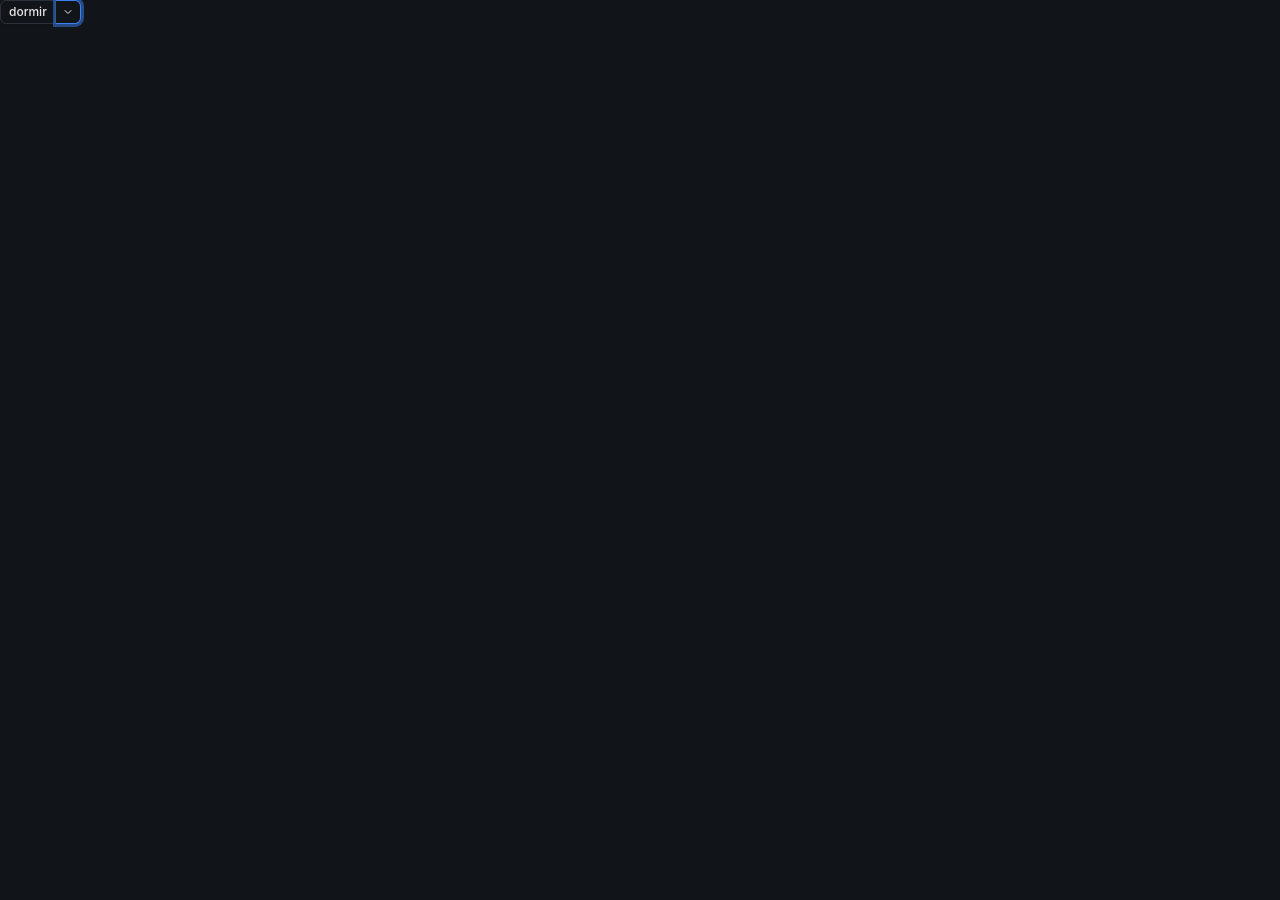
Test: an agent the shim missed in one of the terminals adds the lost-conversation line to the dialog (#696)
Press Enter
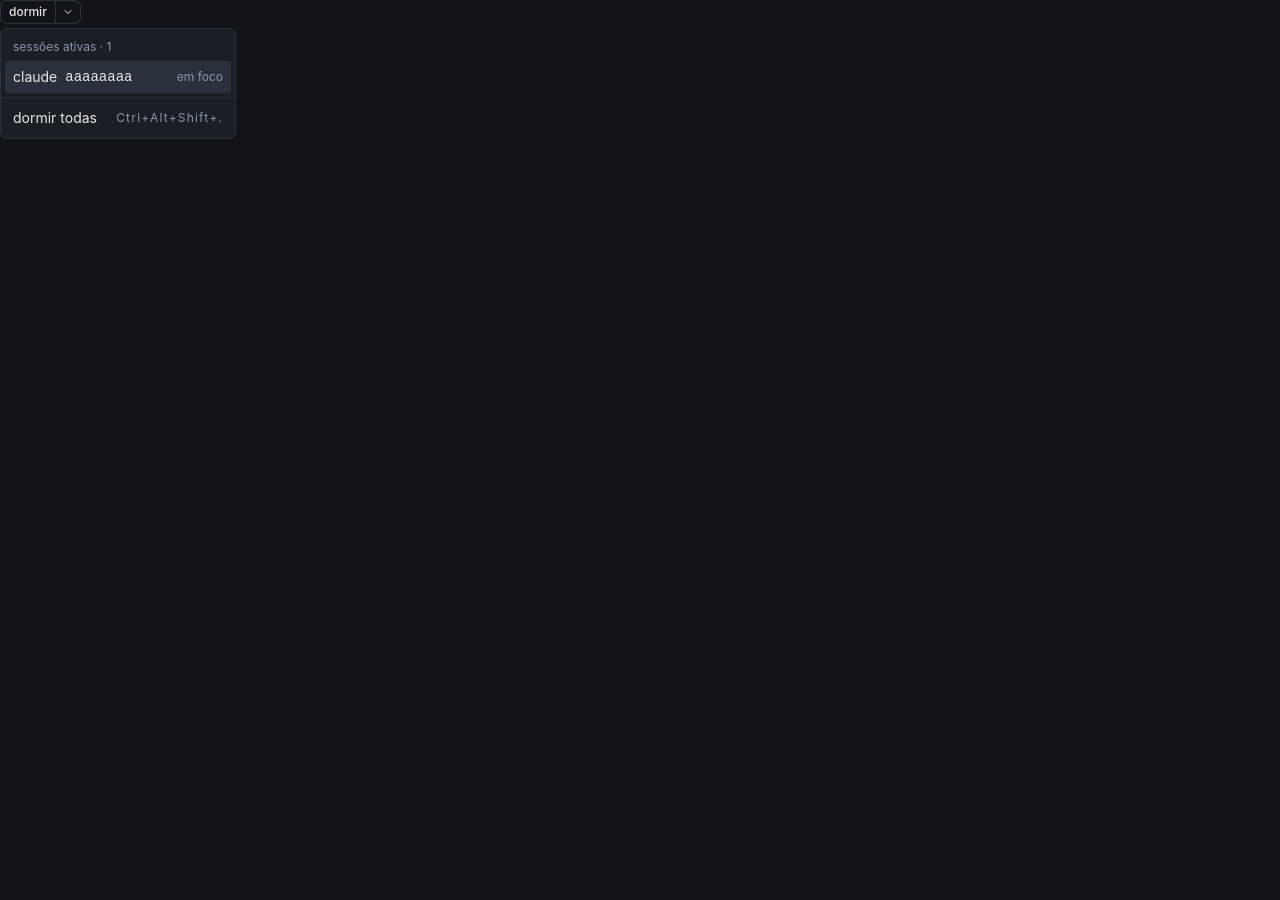
Click the menu item "dormir todas Ctrl+Alt+Shift+.".
click(118, 118)  # box top-left (13, 109), bottom-right (223, 126)
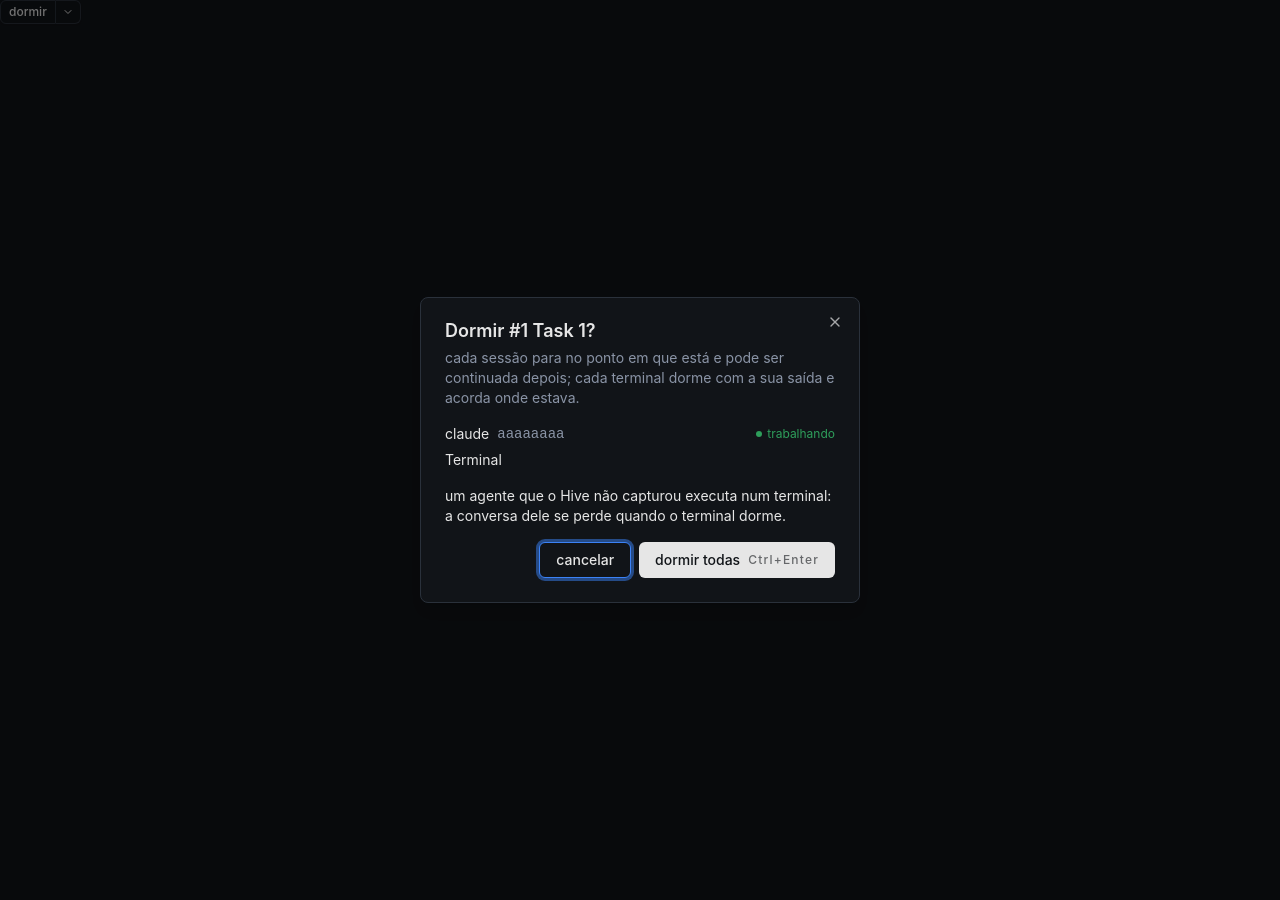
Expected: the dialog "Dormir #1 Task 1?" shows "um agente que o Hive não capturou executa num terminal: a conversa dele se perde quando o terminal dorme.", top-left (445, 487), bottom-right (831, 524)
